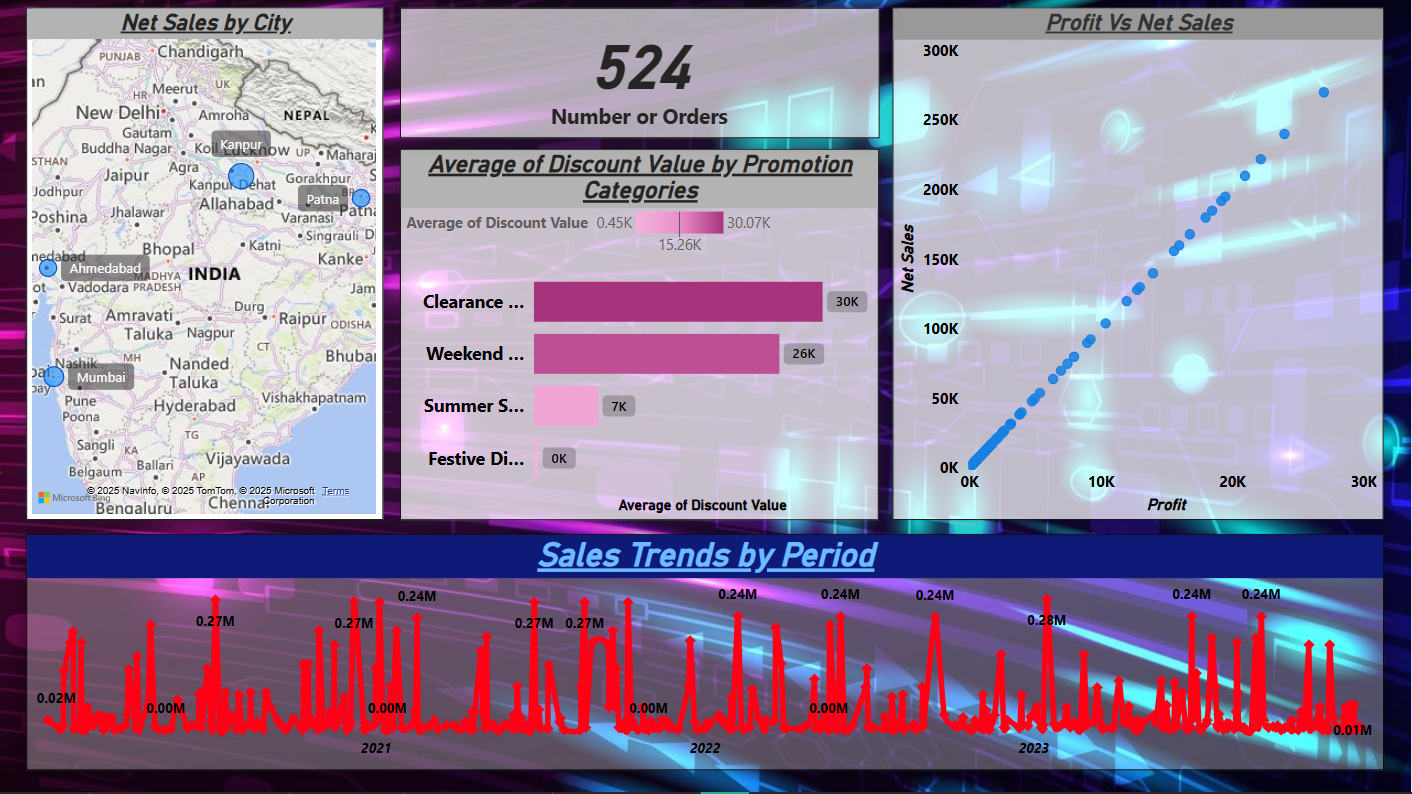

The page's visual inventory and layout, read from the dashboard file:
{"tool":"powerbi","page":{"name":"Overview","canvas":[1280,720],"ordinal":2},"visuals":[{"type":"lineChart","title":"Sales Trends by Period","fields":{"Y":["Sum(Fact Table.Net Sales)"],"Category":["Fact Table.Date (dd/mm/yyyy).Variation.Date Hierarchy.Year"]},"box":[23.8,485.4,1231.8,214.4],"z":0},{"type":"scatterChart","title":"Profit Vs Net Sales","fields":{"X":["Fact Table.Profit"],"Y":["Fact Table.Net Sales"]},"box":[809.8,7.9,445.7,465],"z":1000},{"type":"barChart","title":"Average of Discount Value by Promotion Categories","fields":{"Y":["Avg(Fact Table.Discount Value)"],"Category":["Dim Promotion.Promotion Name"]},"box":[363,136.1,434.4,336.9],"z":2000},{"type":"map","fields":{"Category":["Dim Customers.City"],"Size":["Sum(Fact Table.Net Sales)"]},"box":[23.8,7.9,324.4,465],"z":3000},{"type":"card","fields":{"Values":["Count(Fact Table.Order ID)"]},"box":[362.8,8.1,434.9,118.6],"z":4000}]}

Visuals, with their boxes in screenshot pixels (x1, y1, x2, y2), scaled from the page's 1280x720 canvas onto the 1412x794 screenshot:
"Sales Trends by Period" lineChart: <box>26,535,1385,772</box>
"Profit Vs Net Sales" scatterChart: <box>893,9,1385,522</box>
"Average of Discount Value by Promotion Categories" barChart: <box>400,150,880,522</box>
map - Dim Customers.City x Sum(Fact Table.Net Sales): <box>26,9,384,522</box>
card - Count(Fact Table.Order ID): <box>400,9,880,140</box>
